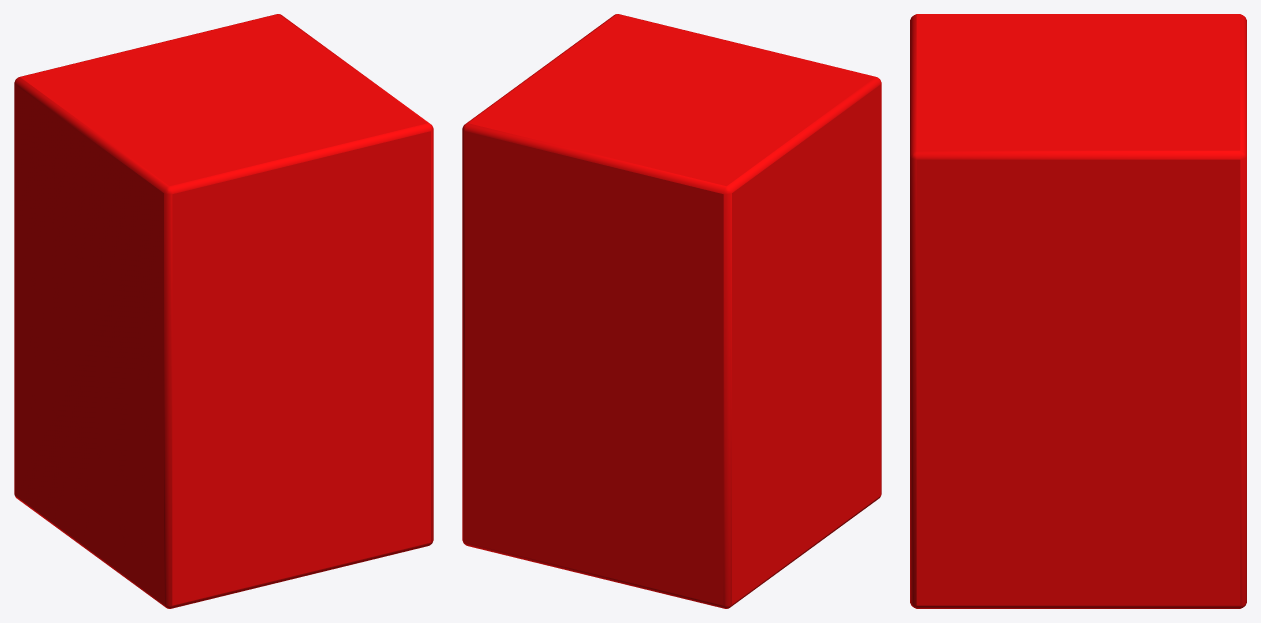
File: CuboidRed.fbx
3 renders of one model, left to right at view 1: azimuth 30°, elevation 25°; view 2: azimuth 150°, elevation 25°; view 3: azimuth 270°, elevation 25°, orthographic. The views are drawn at different scales.
Parts seen in each view (by area): view 1: Cube; view 2: Cube; view 3: Cube.
Part boxes in pixels (x1,y1,x2,y2): Cube: (14, 14, 433, 608); Cube: (462, 14, 881, 608); Cube: (910, 14, 1246, 608).
Bounding box in the file's own units: 2 × 3 × 2.
